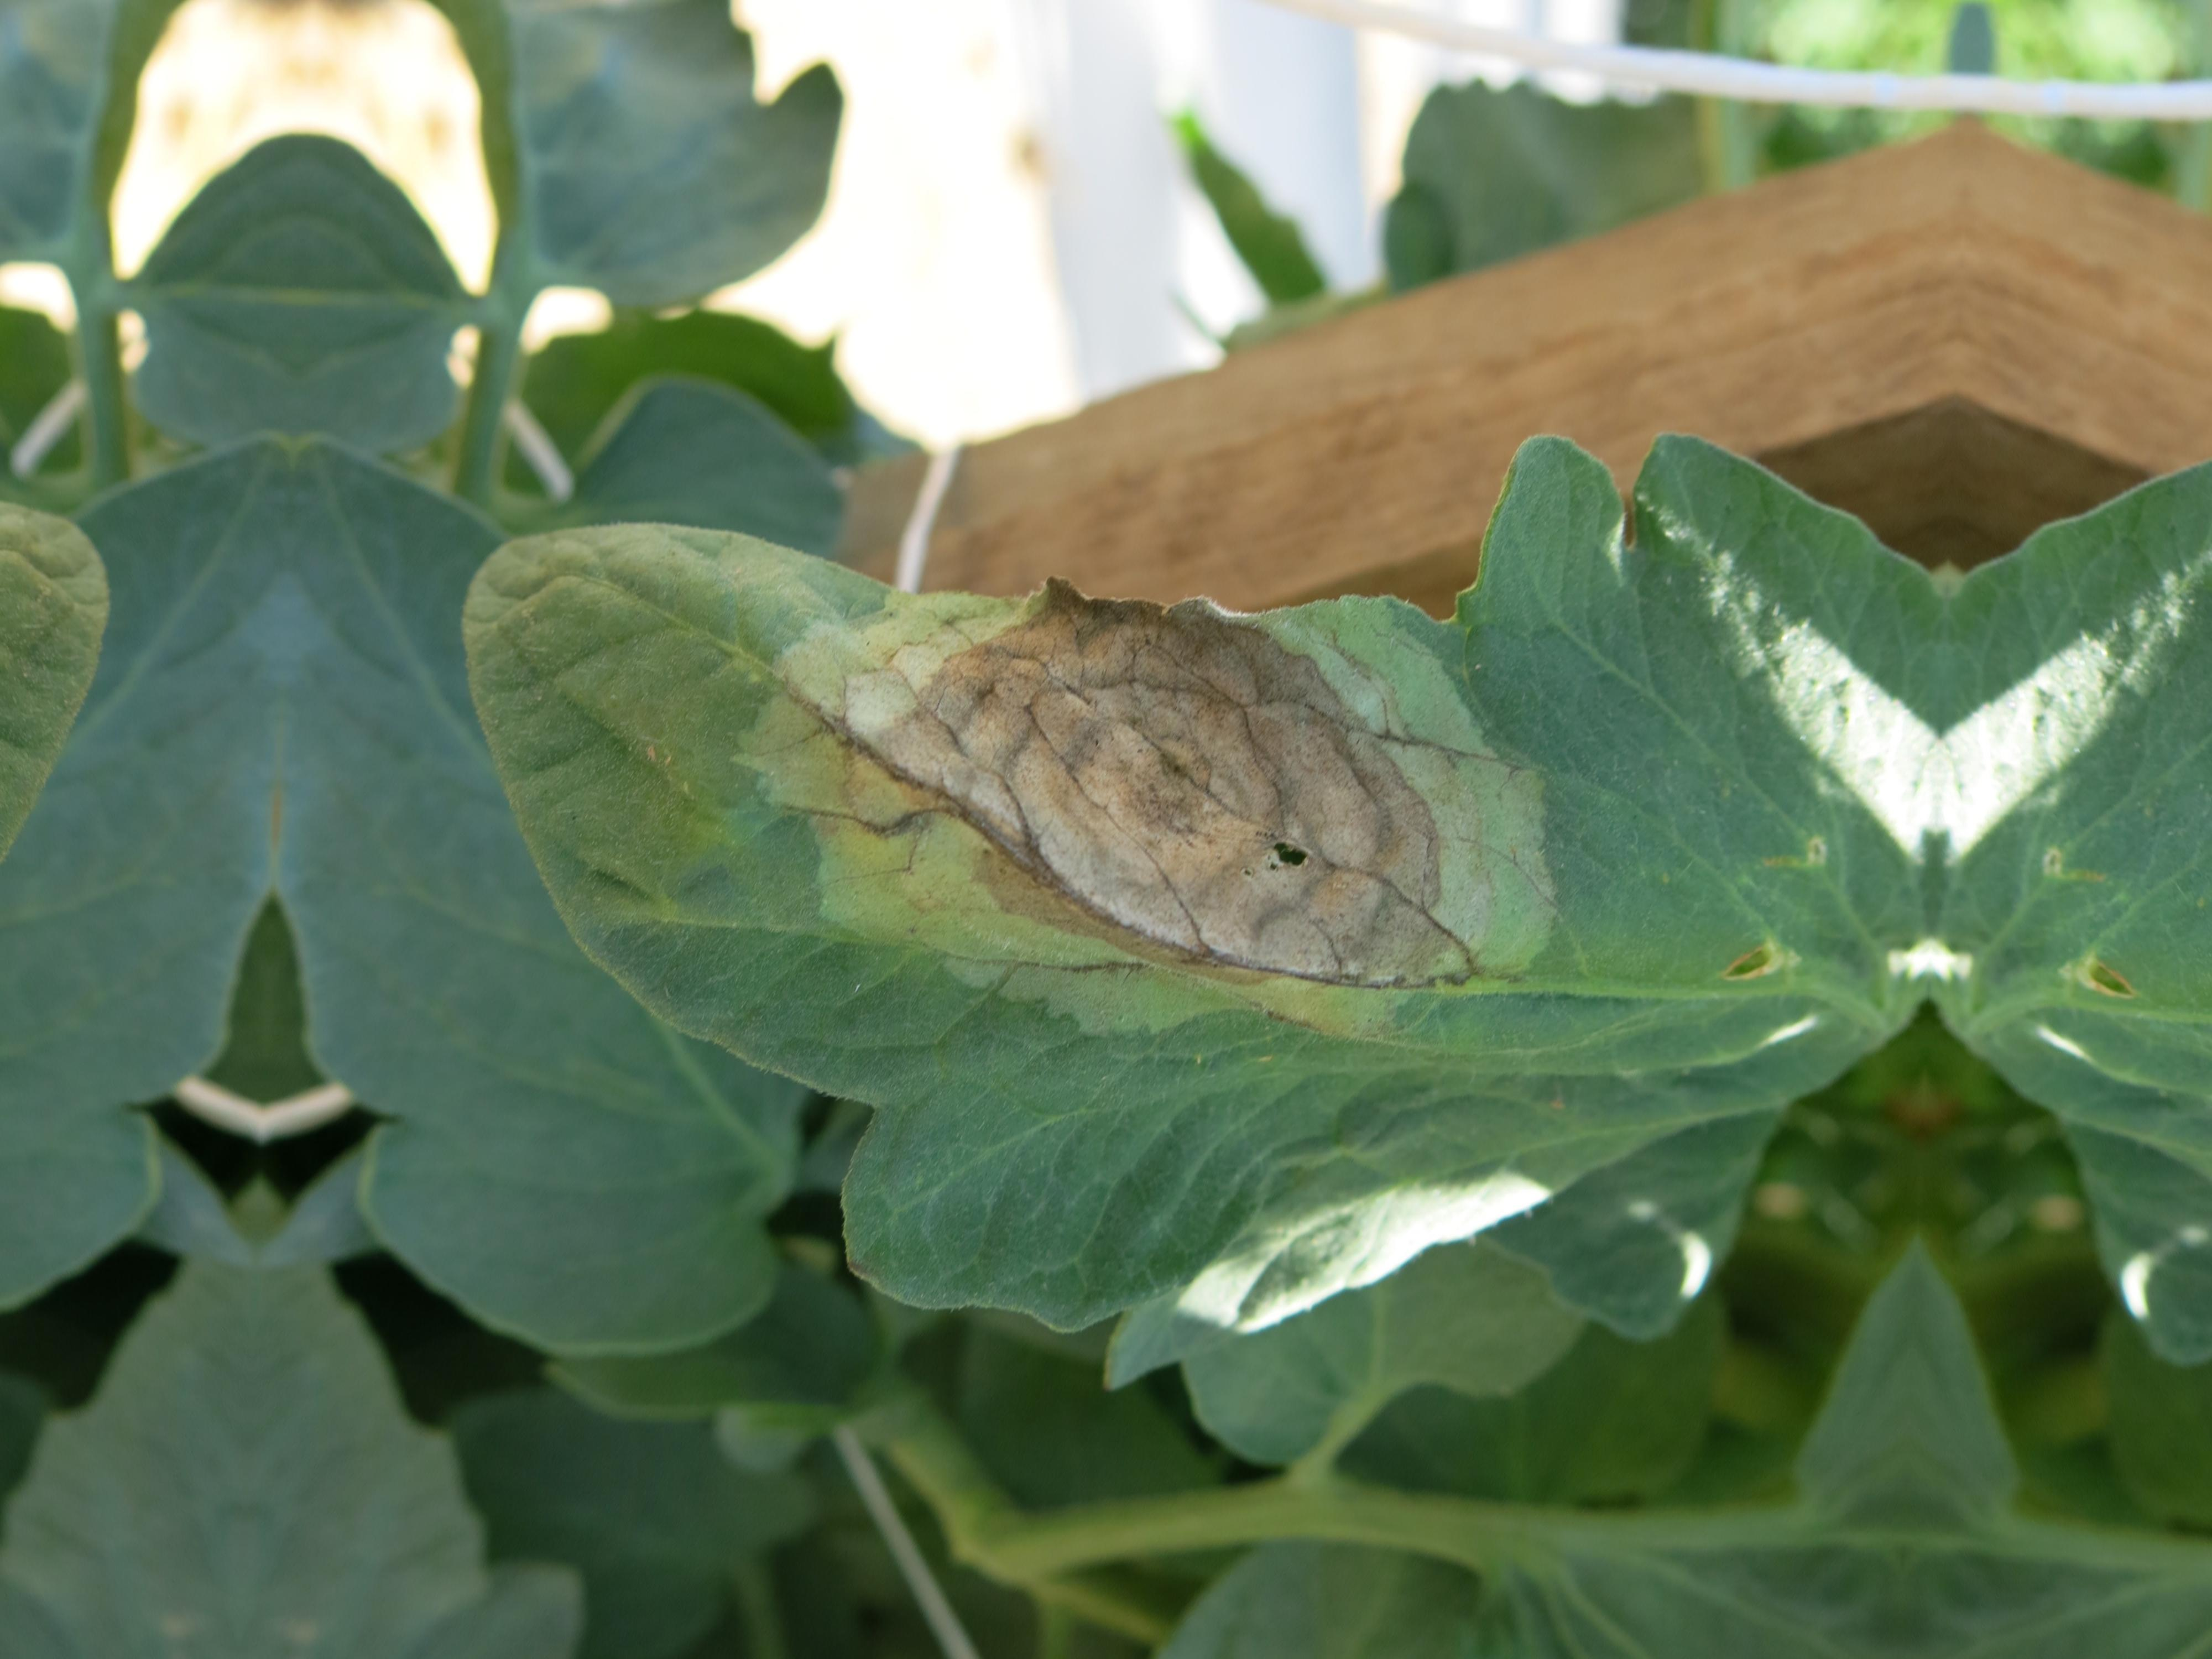Tomato leaf late blight: (376, 364, 1940, 1483)
